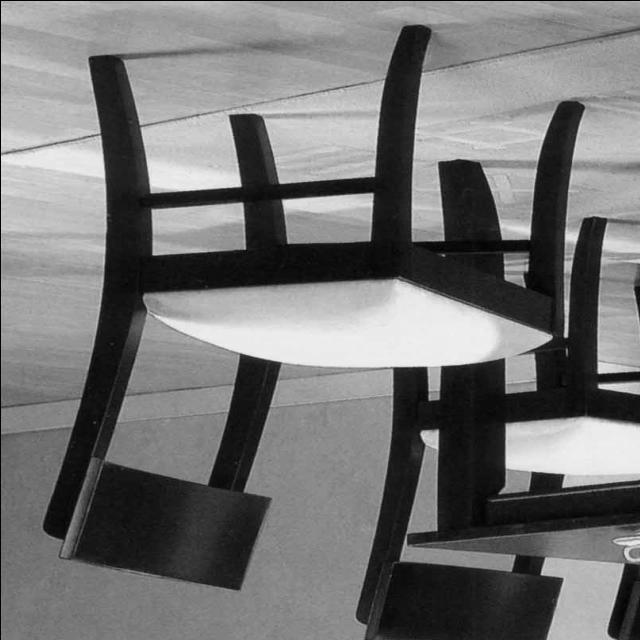chair: (39, 24, 586, 592), (351, 219, 640, 639)
